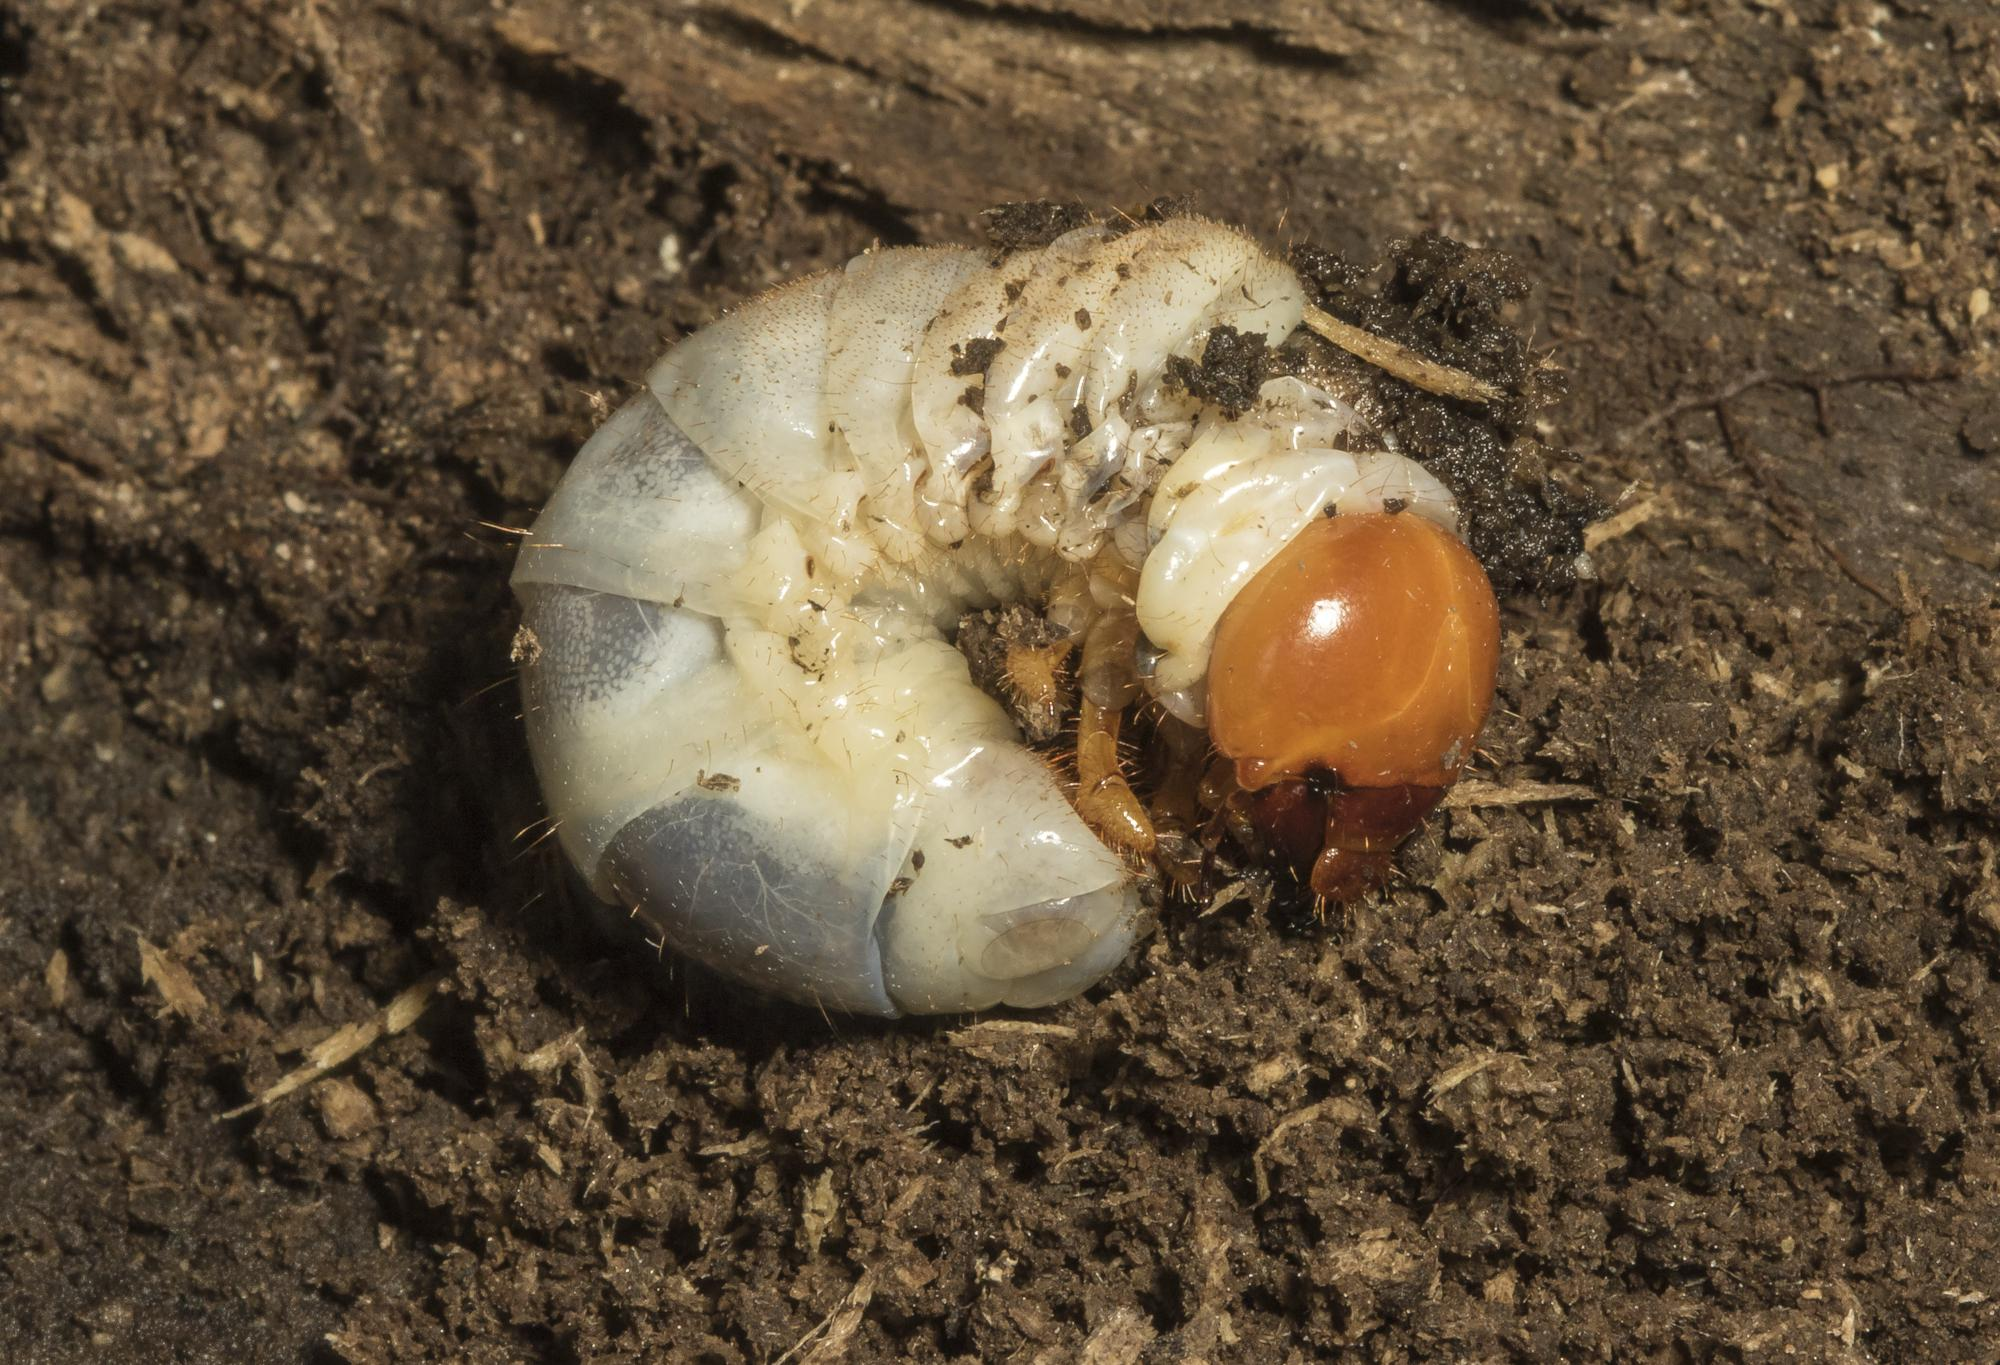grub: (498, 207, 1561, 1081)
